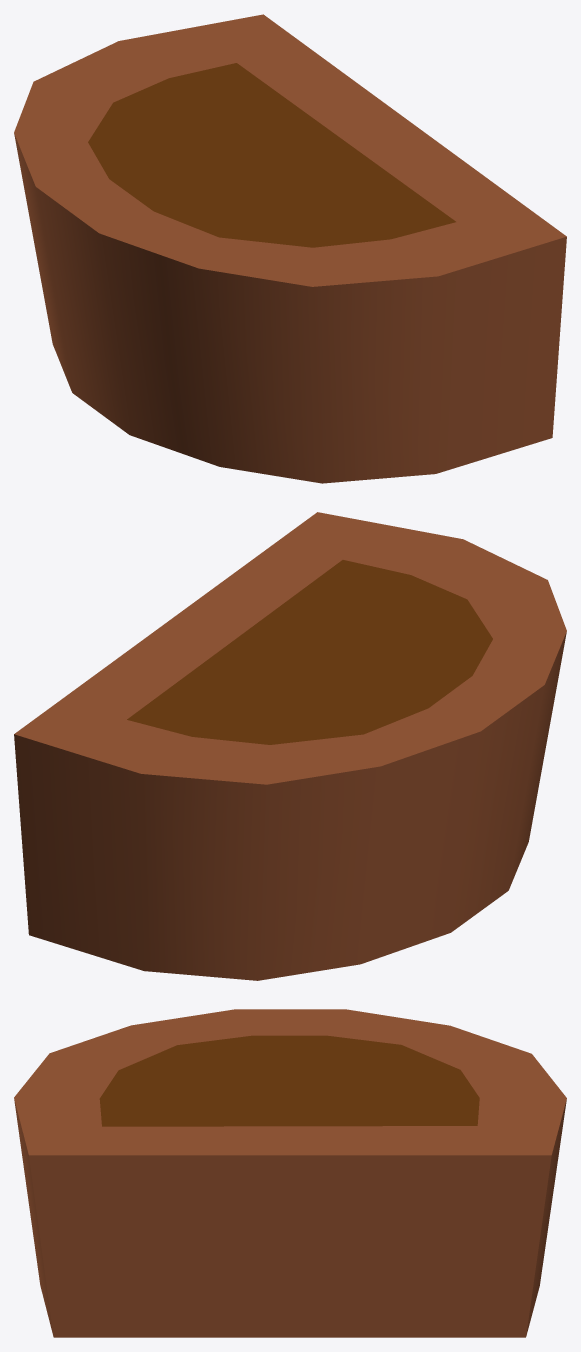
The model's file is flower_pot_05.fbx.
3 views of the same model, one above another, from view 1: azimuth 30°, elevation 25°; view 2: azimuth 150°, elevation 25°; view 3: azimuth 270°, elevation 25° (orthographic). The views are drawn at different scales.
Visible parts, largest first — view 1: flower_pot_05; view 2: flower_pot_05; view 3: flower_pot_05.
Part boxes in pixels (x1,y1,x2,y2): flower_pot_05: (14, 14, 566, 483); flower_pot_05: (14, 512, 566, 980); flower_pot_05: (14, 1009, 566, 1337).
Bounding box in the file's own units: 77.34 × 45.07 × 124.
